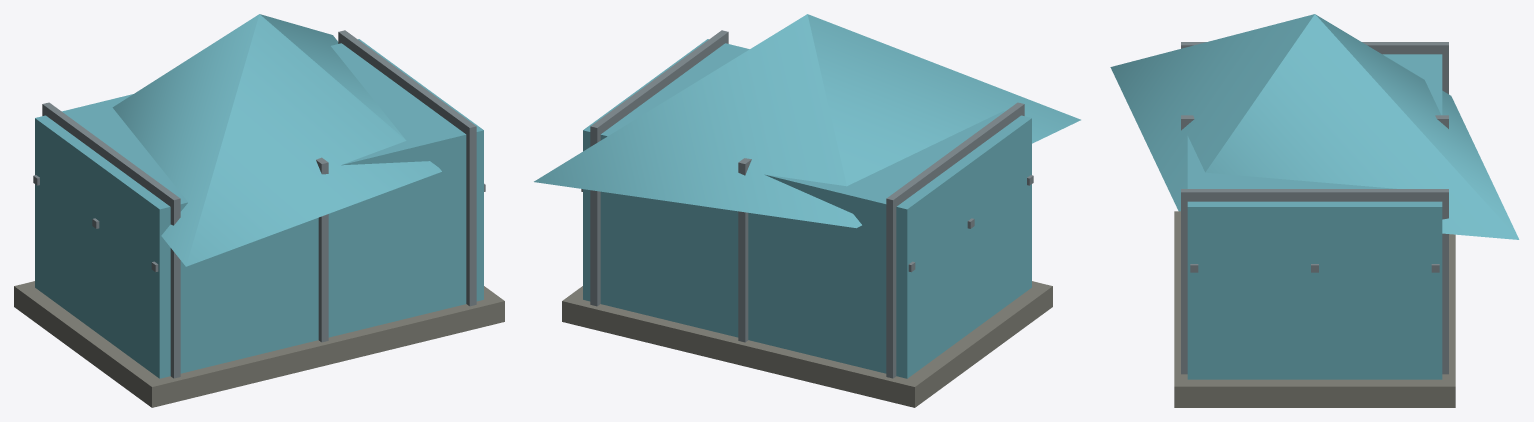
The model's file is greenhouse.glb.
The picture shows the model from 3 angles, left to right: view 1: azimuth 30°, elevation 25°; view 2: azimuth 150°, elevation 25°; view 3: azimuth 270°, elevation 25°; orthographic projection.
Parts seen in each view (by area): view 1: glass_body, glass_roof, base, frame_26, frame_-26, frame_0; view 2: glass_body, glass_roof, base, frame_-26, frame_26, frame_0; view 3: glass_body, glass_roof, base, frame_26, frame_-26.
Part boxes in pixels (<box>): glass_body: <box>35,39,483,378</box>; glass_roof: <box>112,14,441,266</box>; base: <box>14,281,504,407</box>; frame_26: <box>338,30,476,306</box>; frame_-26: <box>42,102,180,378</box>; frame_0: <box>316,157,328,342</box>; glass_body: <box>583,39,1031,378</box>; glass_roof: <box>534,14,1080,228</box>; base: <box>562,281,1052,407</box>; frame_-26: <box>886,102,1024,378</box>; frame_26: <box>590,30,728,306</box>; frame_0: <box>738,158,751,342</box>; glass_body: <box>1187,54,1442,379</box>; glass_roof: <box>1110,14,1519,239</box>; base: <box>1174,211,1455,407</box>; frame_26: <box>1181,189,1448,374</box>; frame_-26: <box>1181,42,1448,94</box>.
Size of what is drawn, in the model's own units: 6.2 by 5.04 by 6.11.
